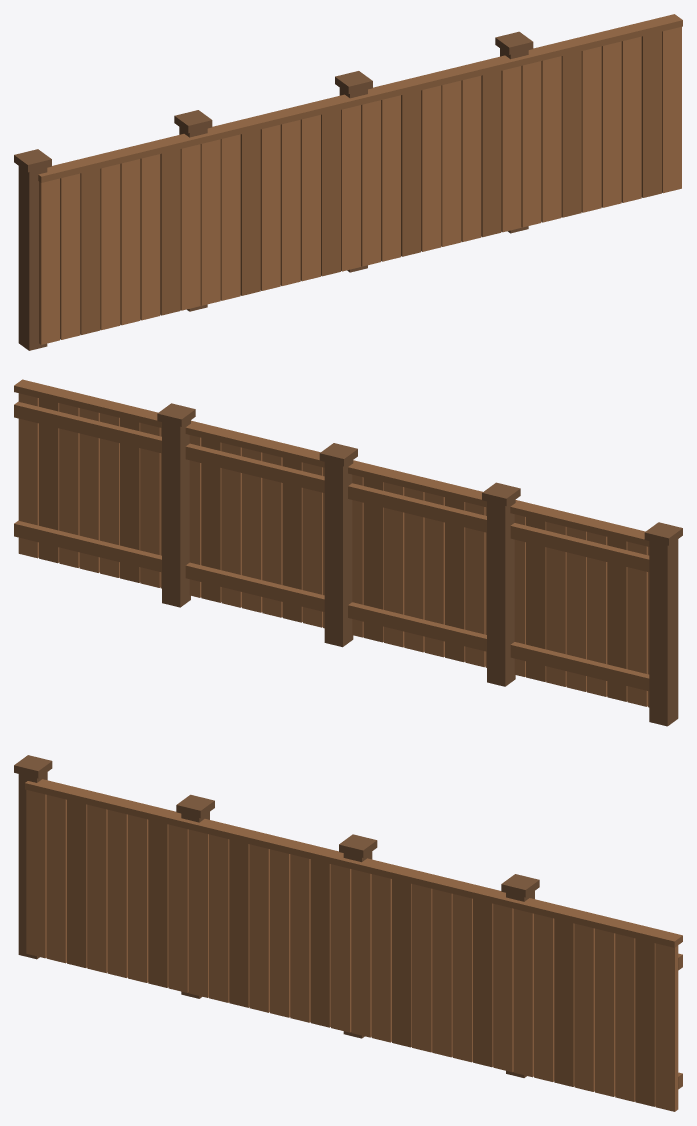
The model's file is privacy-fence-run.glb.
3 views of the same model, one above another, from view 1: azimuth 30°, elevation 25°; view 2: azimuth 150°, elevation 25°; view 3: azimuth 330°, elevation 25° (orthographic).
Visible parts, largest first — view 1: PrivacyFenceRun_Boards, PrivacyFenceRun_Boards2, PrivacyFenceRun_Posts; view 2: PrivacyFenceRun_Boards, PrivacyFenceRun_Boards2, PrivacyFenceRun_Posts; view 3: PrivacyFenceRun_Boards, PrivacyFenceRun_Boards2, PrivacyFenceRun_Posts.
Boxes of the visible parts, box(x1,y1,x2,y2) form: PrivacyFenceRun_Boards: box(39, 26, 681, 344); PrivacyFenceRun_Boards2: box(38, 14, 682, 334); PrivacyFenceRun_Posts: box(14, 31, 533, 350); PrivacyFenceRun_Boards: box(18, 393, 649, 707); PrivacyFenceRun_Boards2: box(14, 379, 649, 701); PrivacyFenceRun_Posts: box(157, 403, 682, 726); PrivacyFenceRun_Boards: box(26, 790, 678, 1111); PrivacyFenceRun_Boards2: box(25, 779, 682, 1106); PrivacyFenceRun_Posts: box(14, 755, 539, 1077).
Bounding box in the file's own units: 32.6 × 8.95 × 1.31.
